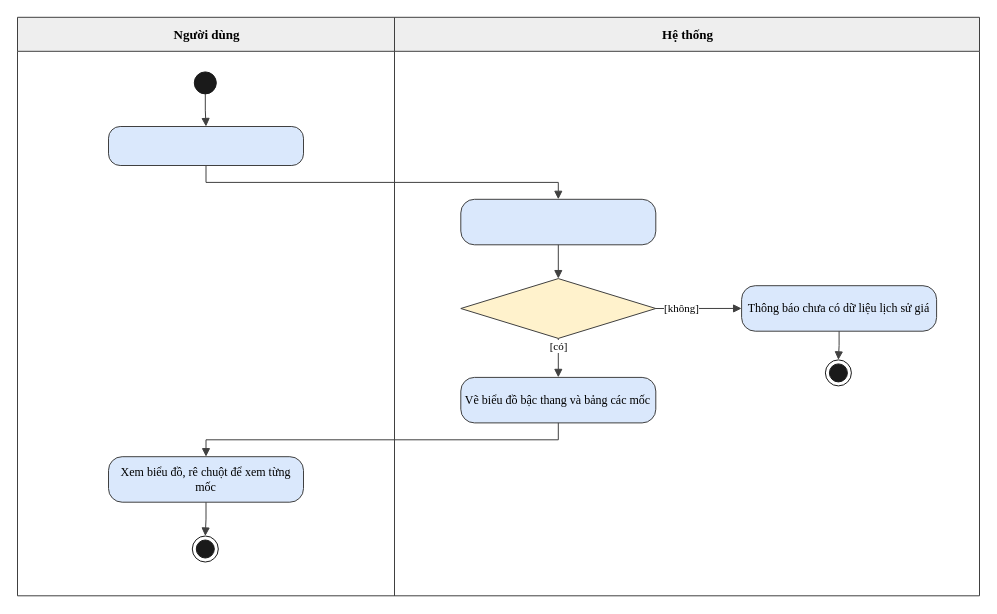
This 997x614 diagram has some shape labels left out. The box of each missing label's shape, as (x1, y1, x2, y2) in pixels:
Có mốc giá?: (460, 278, 656, 338)
Mở lịch sử giá của sản phẩm: (108, 126, 304, 166)
Đọc các mốc giá trong price_history theo thời gian: (460, 198, 656, 245)
